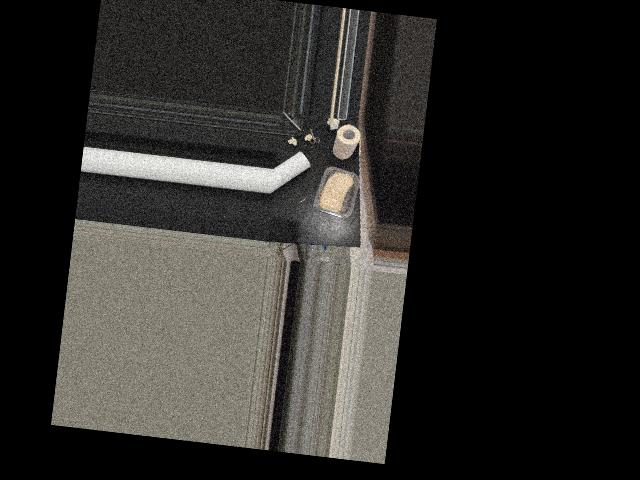cheese: (313, 165, 357, 219)
